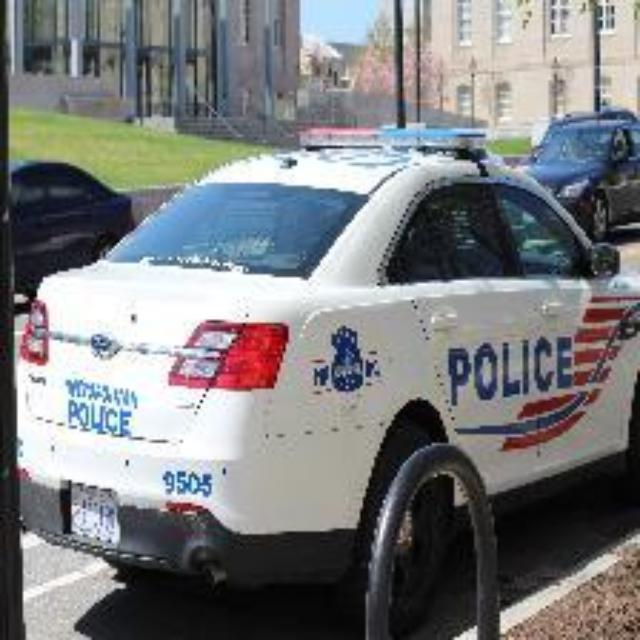emergency: (31, 133, 631, 581)
